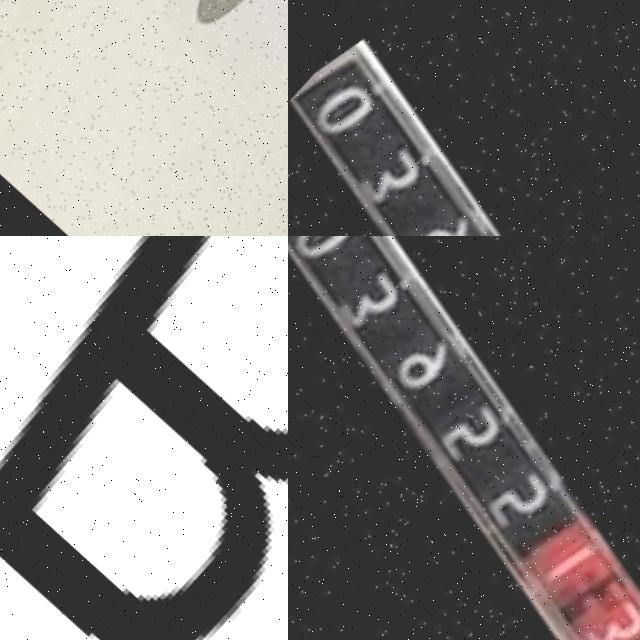0: (296, 55, 390, 153), (288, 236, 369, 277)
1: (535, 513, 611, 594)
3: (346, 126, 435, 218), (325, 250, 414, 342), (579, 573, 640, 640)
5: (431, 381, 519, 473), (483, 444, 570, 535)
9: (381, 312, 468, 403), (401, 187, 489, 236)
B: (0, 236, 288, 640)
